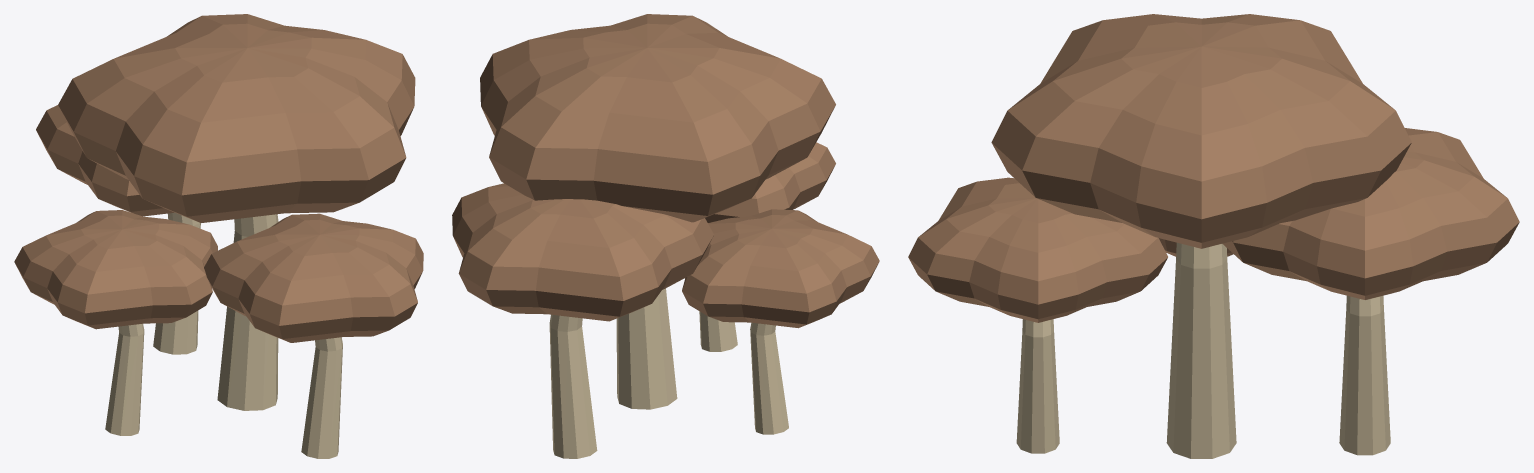
File: wave-cap-mushroom.glb
The picture shows the model from 3 angles, left to right: view 1: azimuth 30°, elevation 25°; view 2: azimuth 150°, elevation 25°; view 3: azimuth 270°, elevation 25°; orthographic projection. The views are drawn at different scales.
Visible parts, largest first — view 1: wave-cap-mushroom; view 2: wave-cap-mushroom; view 3: wave-cap-mushroom.
Part boxes in pixels (x1,y1,x2,y2): wave-cap-mushroom: [14, 14, 423, 458]; wave-cap-mushroom: [452, 14, 879, 458]; wave-cap-mushroom: [908, 14, 1519, 458].
Size of the model in its own units: 0.1997 by 0.1794 by 0.2496.
